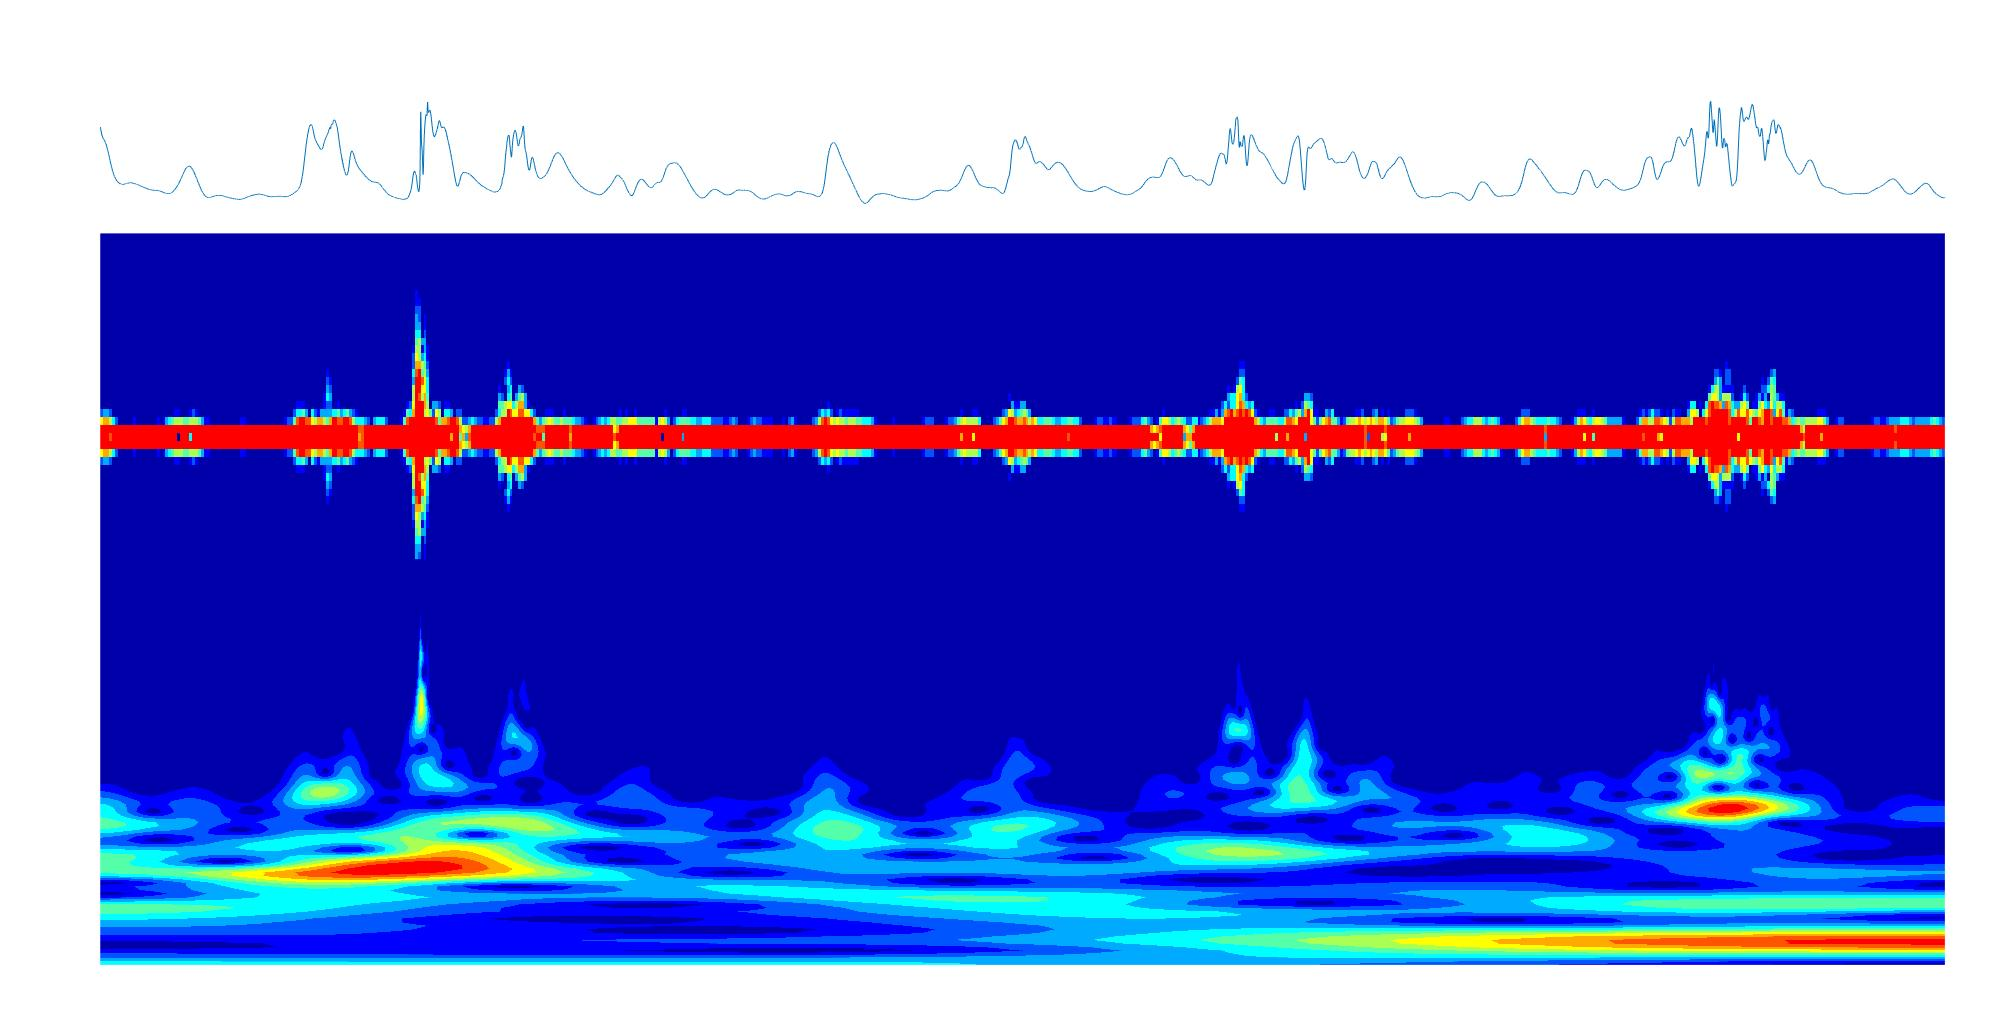TURBULENT: (404, 235, 434, 962)
